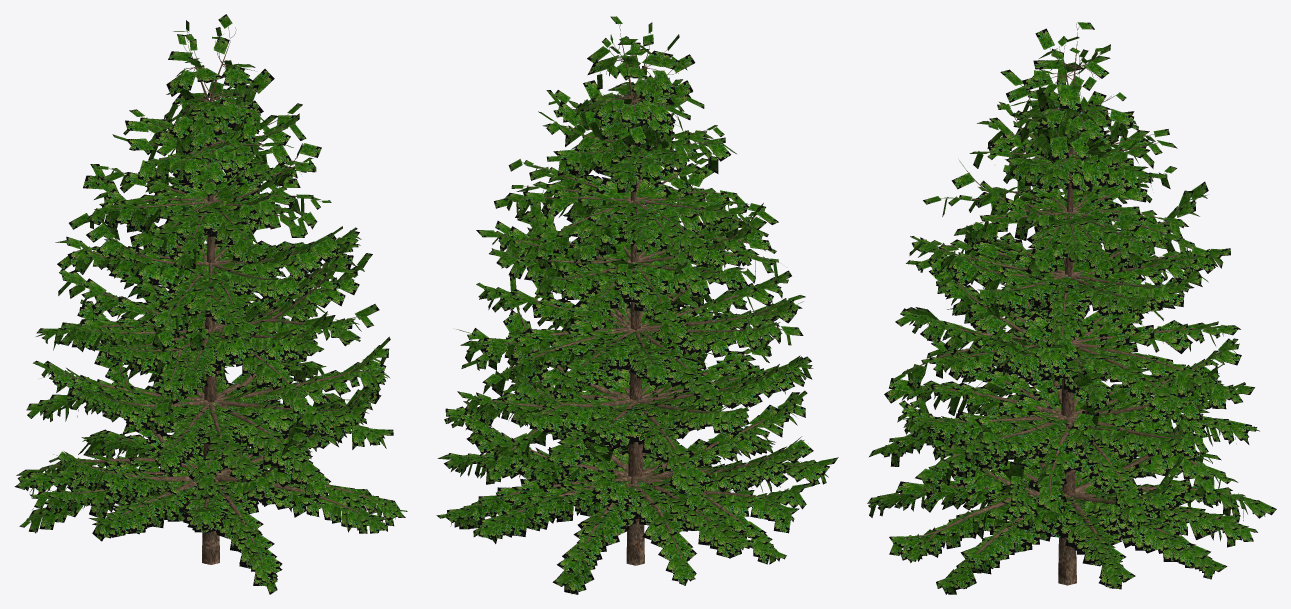
File: PalmTree.fbx
3 renders of one model, left to right at view 1: azimuth 30°, elevation 25°; view 2: azimuth 150°, elevation 25°; view 3: azimuth 270°, elevation 25°, orthographic. The views are drawn at different scales.
Visible parts, largest first — view 1: EricPalmTreeLeaves_LOD0, EricPalmTree_LOD0; view 2: EricPalmTreeLeaves_LOD0, EricPalmTree_LOD0; view 3: EricPalmTreeLeaves_LOD0, EricPalmTree_LOD0.
Boxes of the visible parts, x1,y1,x2,y2 form: EricPalmTreeLeaves_LOD0: (14, 14, 407, 594); EricPalmTree_LOD0: (29, 27, 391, 566); EricPalmTreeLeaves_LOD0: (436, 16, 838, 594); EricPalmTree_LOD0: (474, 24, 816, 568); EricPalmTreeLeaves_LOD0: (867, 22, 1276, 594); EricPalmTree_LOD0: (887, 23, 1244, 585).
Size of what is drawn, in the model's own units: 436 by 658 by 438.
